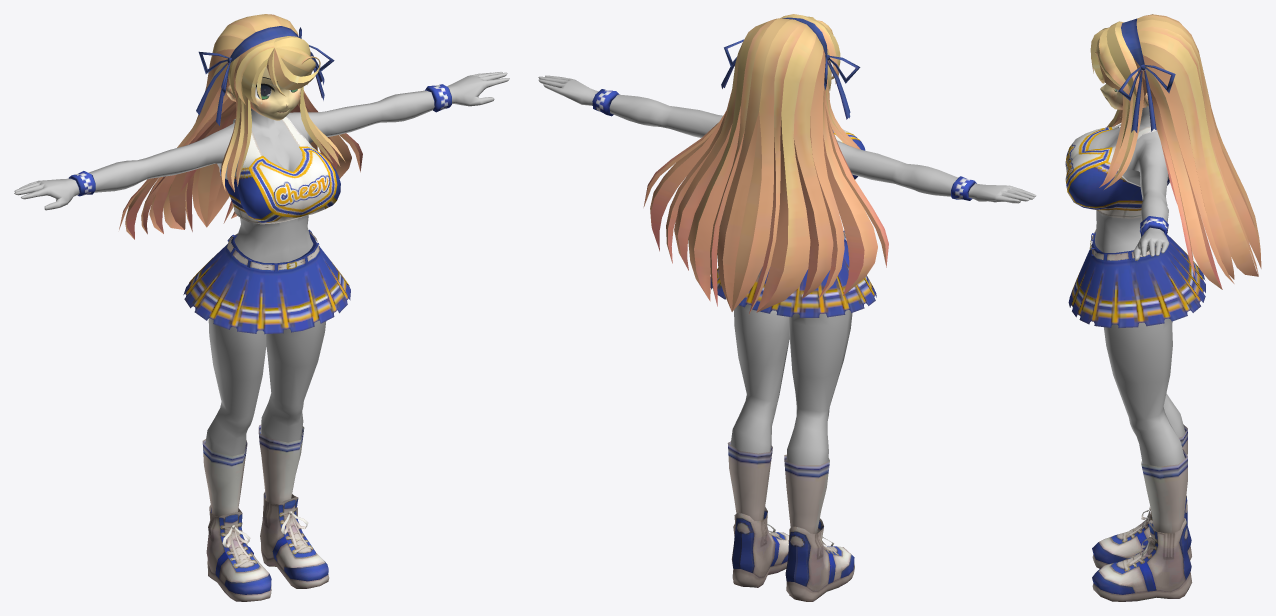
Rendered from cheerleader Katsuragi.obj.
3 renders of one model, left to right at view 1: azimuth 30°, elevation 25°; view 2: azimuth 150°, elevation 25°; view 3: azimuth 270°, elevation 25°, orthographic.
Visible parts, largest first — view 1: vsn_mesh_0_hr_00, vsn_mesh_10_tops02_nak, vsn_mesh_7_shoes_nut_brk, vsn_mesh_2_bottom_nut_brk, vsn_mesh_8_skirt_nut_brk, vsn_mesh_5_cloth01_nut_brk, vsn_mesh_0_face_00_skin, vsn_mesh_0_belt_nut_brk; view 2: vsn_mesh_0_hr_00, vsn_mesh_2_bottom_nut_brk, vsn_mesh_7_shoes_nut_brk, vsn_mesh_10_tops02_nak, vsn_mesh_8_skirt_nut_brk, vsn_mesh_5_cloth01_nut_brk; view 3: vsn_mesh_0_hr_00, vsn_mesh_7_shoes_nut_brk, vsn_mesh_8_skirt_nut_brk, vsn_mesh_2_bottom_nut_brk, vsn_mesh_10_tops02_nak, vsn_mesh_5_cloth01_nut_brk, vsn_mesh_0_face_00_skin, vsn_mesh_0_belt_nut_brk.
Part boxes in pixels (x1,y1,x2,y2): vsn_mesh_0_hr_00: (119, 14, 362, 239); vsn_mesh_10_tops02_nak: (14, 72, 509, 263); vsn_mesh_7_shoes_nut_brk: (202, 424, 329, 601); vsn_mesh_2_bottom_nut_brk: (205, 318, 326, 456); vsn_mesh_8_skirt_nut_brk: (183, 232, 350, 334); vsn_mesh_5_cloth01_nut_brk: (68, 84, 451, 224); vsn_mesh_0_face_00_skin: (226, 66, 301, 120); vsn_mesh_0_belt_nut_brk: (227, 229, 320, 271); vsn_mesh_0_hr_00: (643, 14, 888, 313); vsn_mesh_2_bottom_nut_brk: (730, 304, 852, 465); vsn_mesh_7_shoes_nut_brk: (727, 441, 854, 601); vsn_mesh_10_tops02_nak: (538, 75, 1036, 203); vsn_mesh_8_skirt_nut_brk: (710, 239, 876, 317); vsn_mesh_5_cloth01_nut_brk: (592, 89, 976, 200); vsn_mesh_0_hr_00: (1090, 14, 1261, 289); vsn_mesh_7_shoes_nut_brk: (1092, 424, 1192, 601); vsn_mesh_8_skirt_nut_brk: (1068, 232, 1205, 328); vsn_mesh_2_bottom_nut_brk: (1104, 318, 1185, 466); vsn_mesh_10_tops02_nak: (1088, 14, 1169, 260); vsn_mesh_5_cloth01_nut_brk: (1065, 124, 1169, 236); vsn_mesh_0_face_00_skin: (1100, 83, 1148, 109); vsn_mesh_0_belt_nut_brk: (1089, 229, 1161, 261).
Bounding box in the file's own units: 0.5842 × 0.6304 × 0.2.
